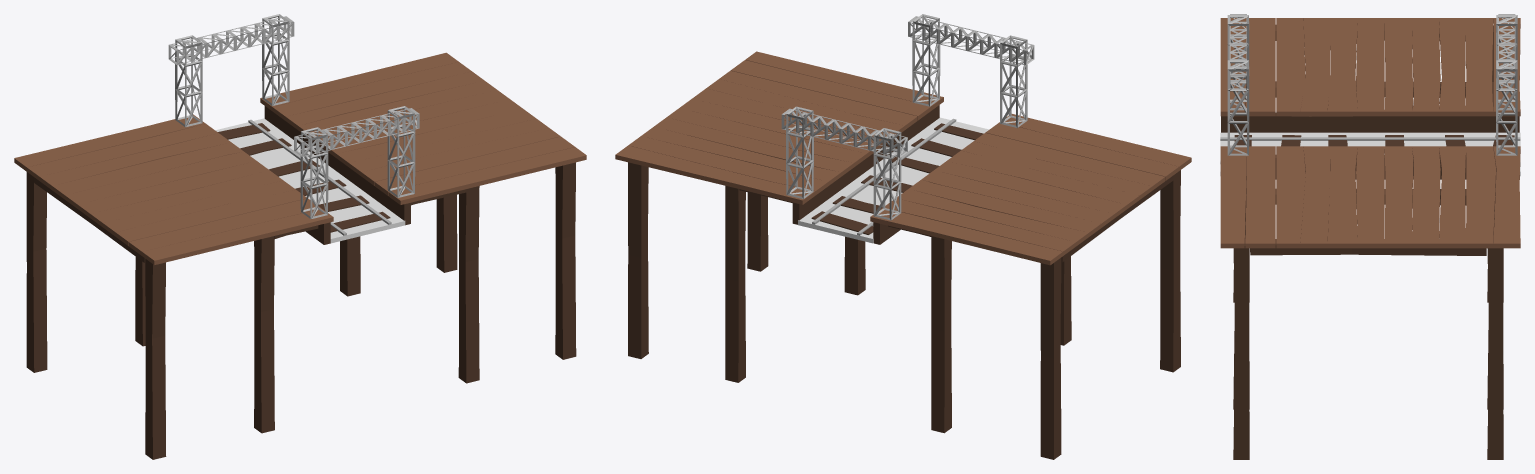
File: Table_2_Train.fbx
3 renders of one model, left to right at view 1: azimuth 30°, elevation 25°; view 2: azimuth 150°, elevation 25°; view 3: azimuth 270°, elevation 25°, orthographic. The views are drawn at different scales.
Parts seen in each view (by area): view 1: Cube.072; view 2: Cube.072; view 3: Cube.072.
Part boxes in pixels (x1,y1,x2,y2): Cube.072: (14, 14, 586, 459); Cube.072: (615, 14, 1191, 459); Cube.072: (1220, 14, 1520, 459).
Bounding box in the file's own units: 3579 × 2258 × 2013.
